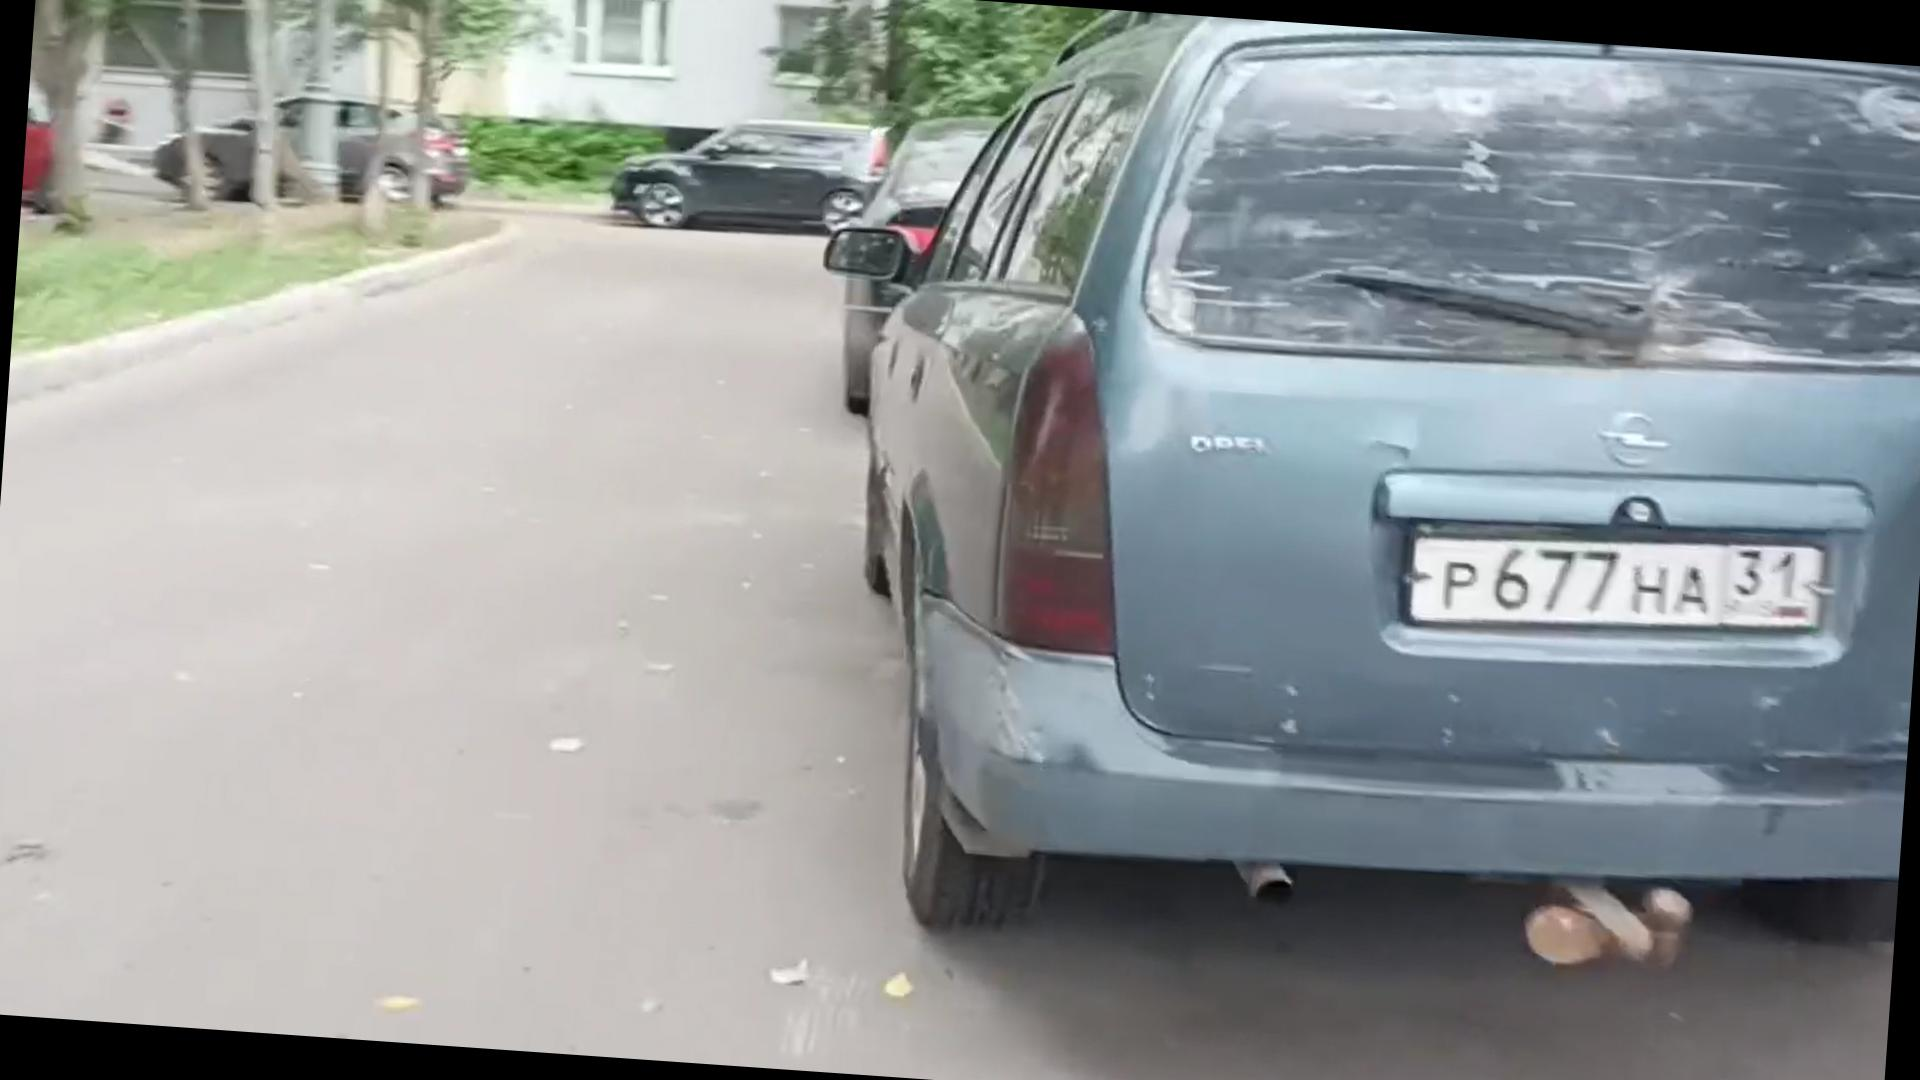plate: (1405, 519, 1821, 647)
